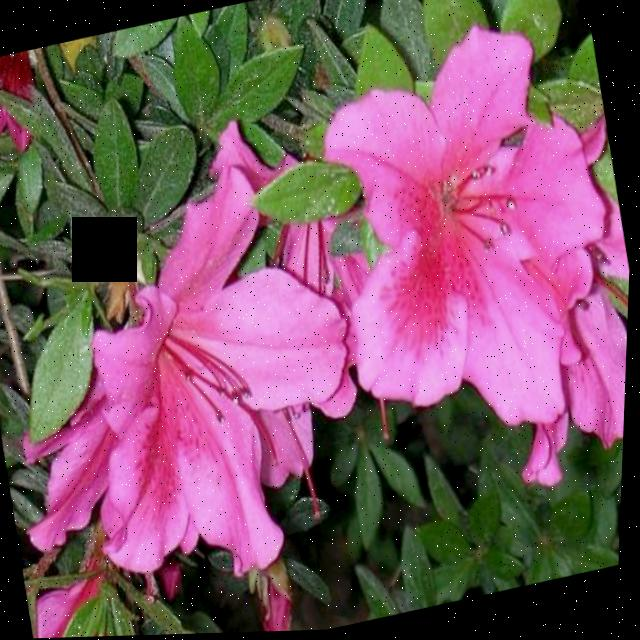azalea: (0, 148, 377, 640), (297, 30, 634, 457)
